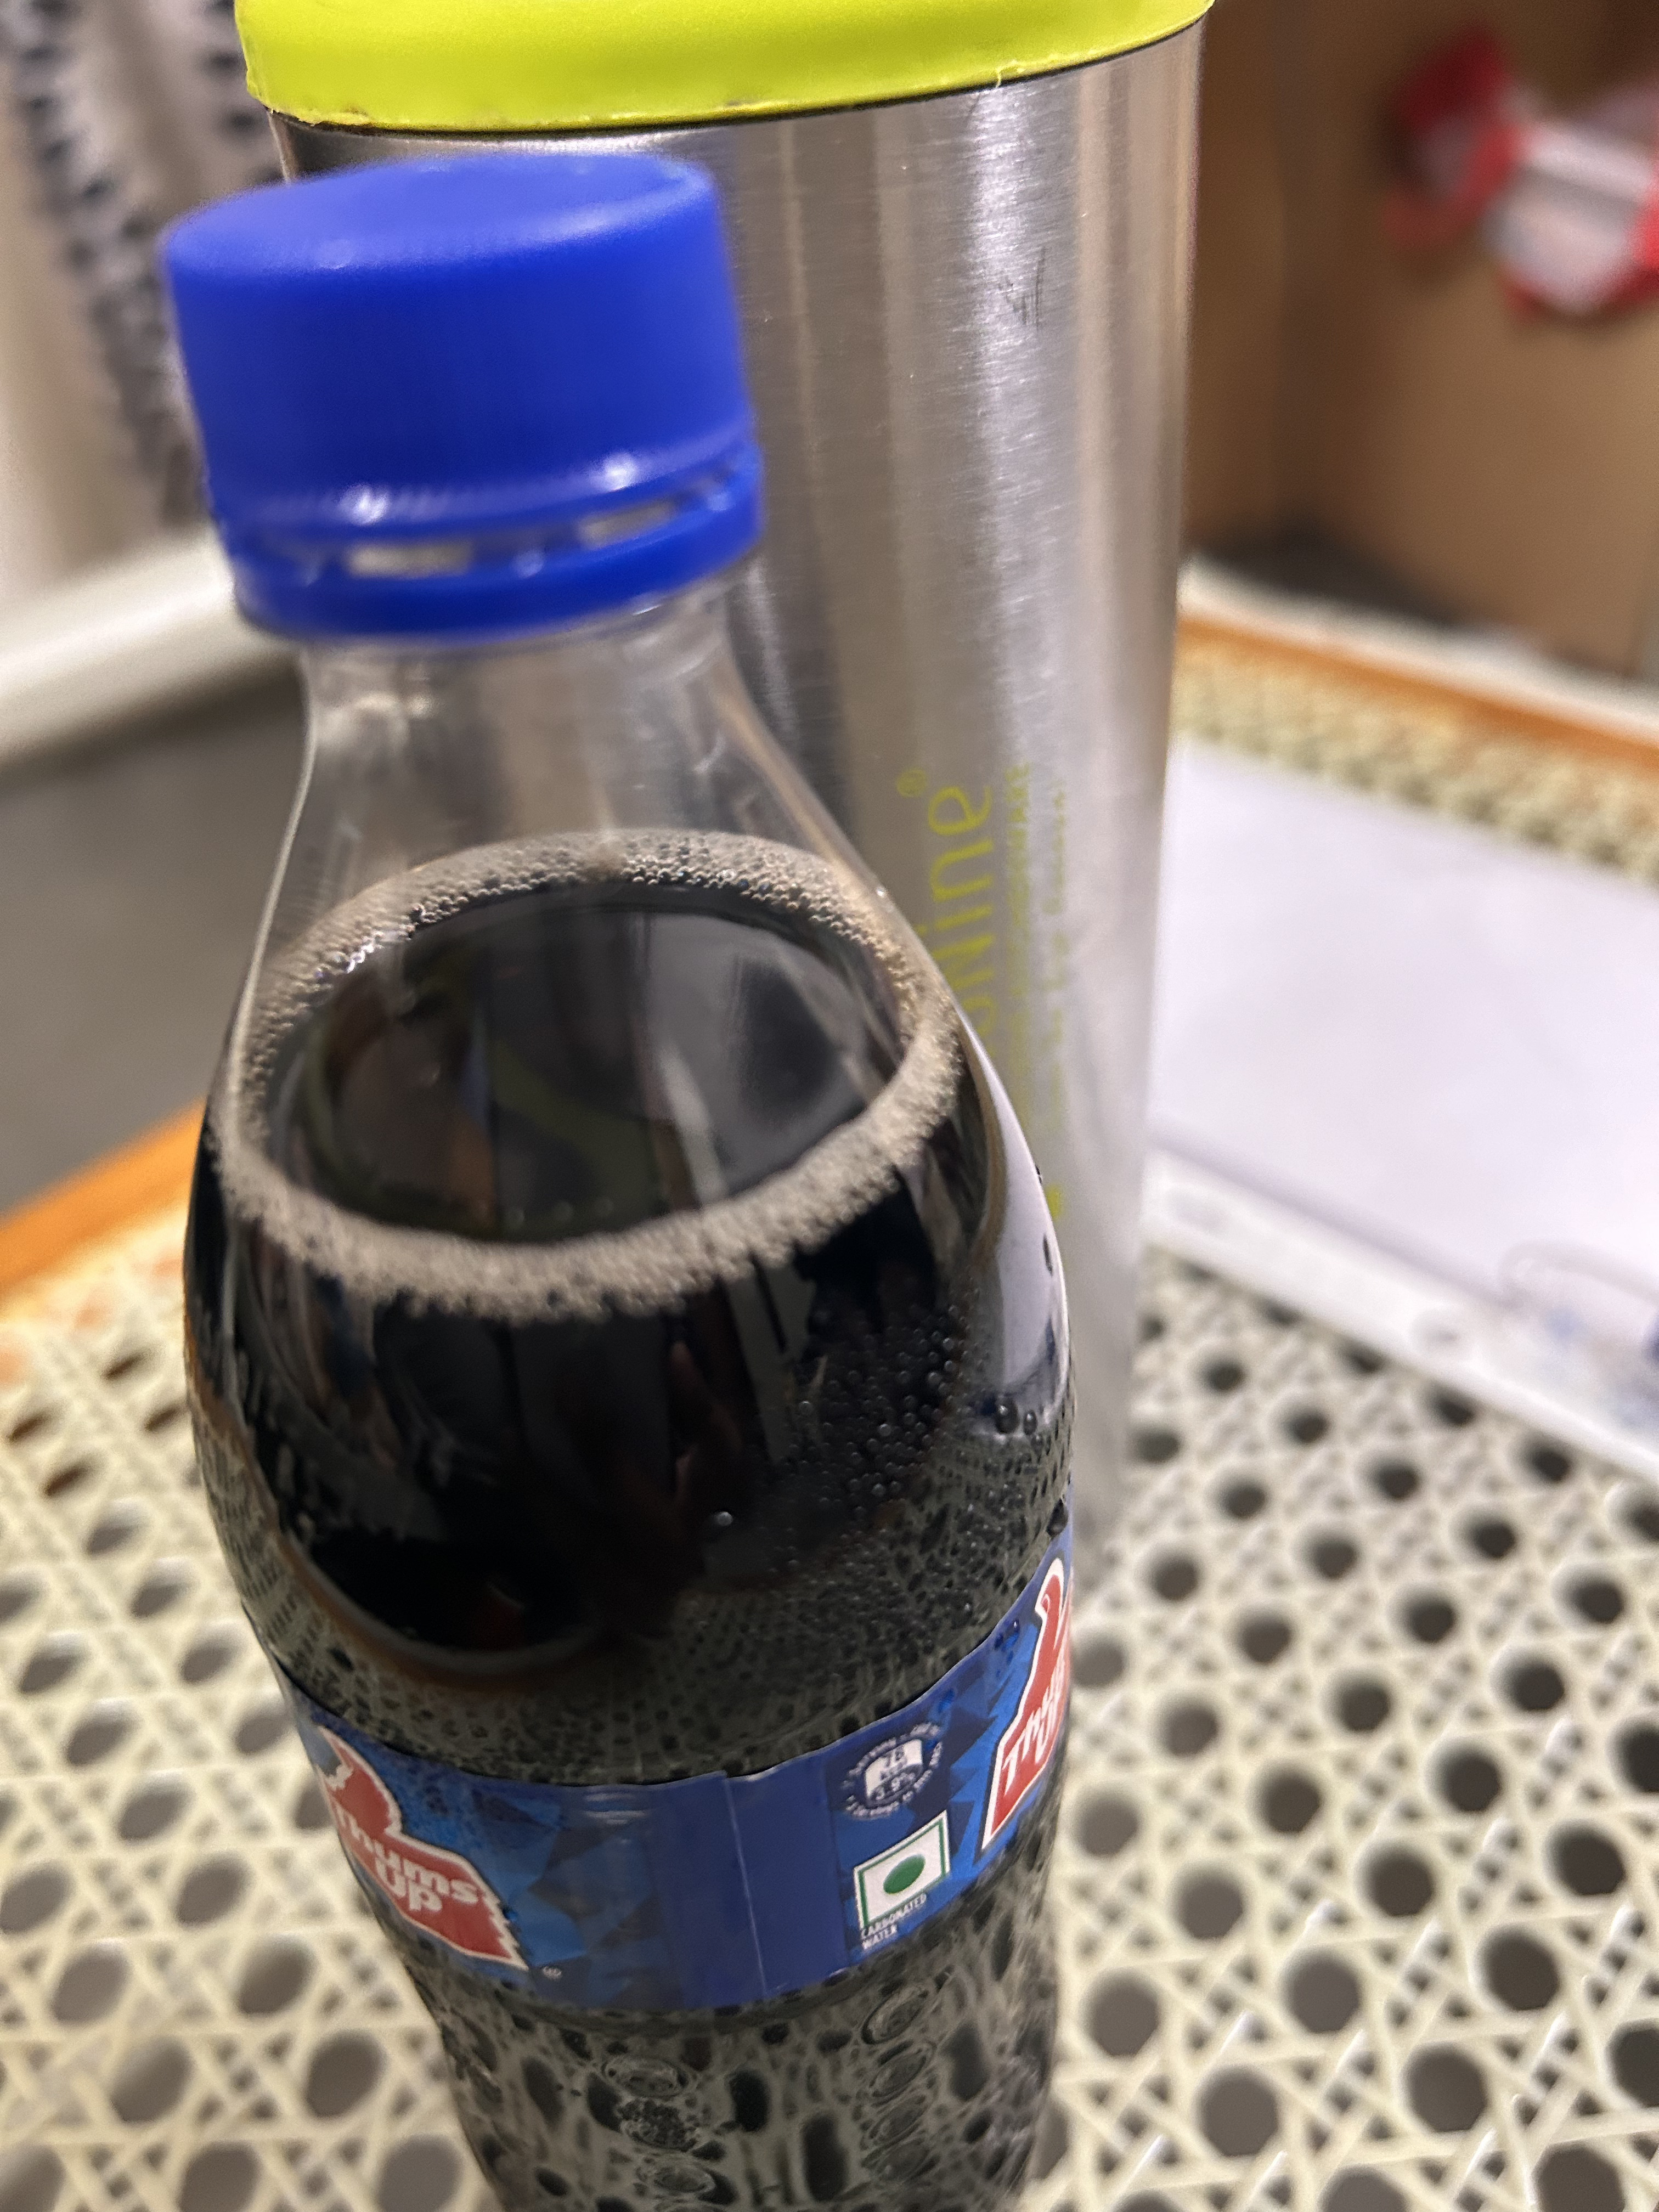unsealed: (143, 153, 802, 707)
